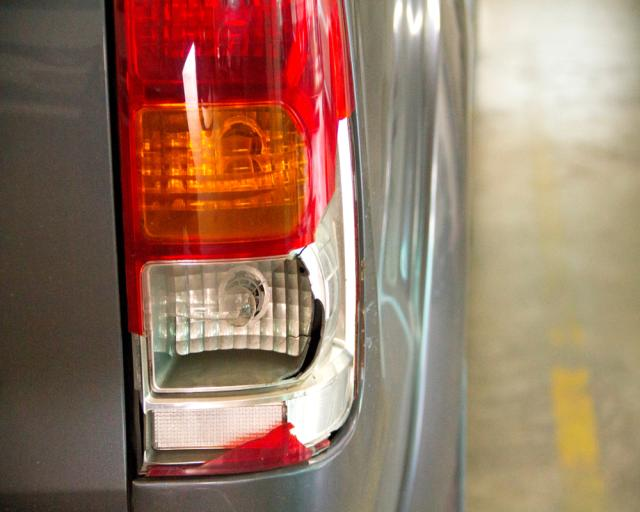lamp broken: (108, 0, 360, 479)
